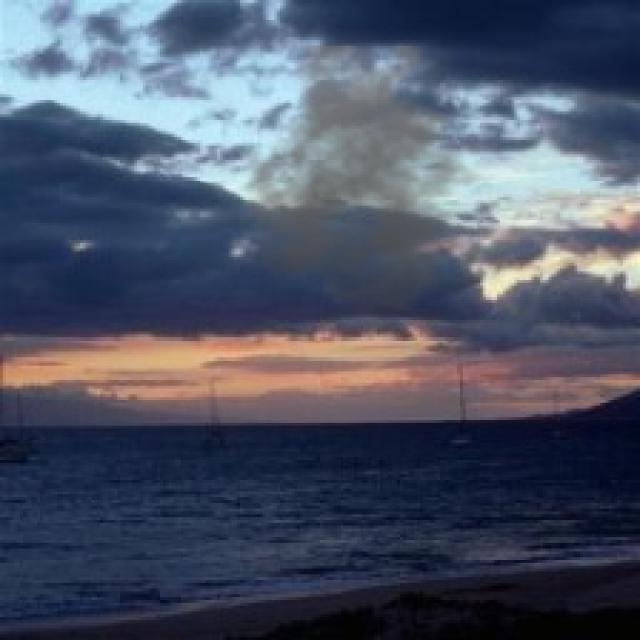smoke: (235, 46, 494, 320)
